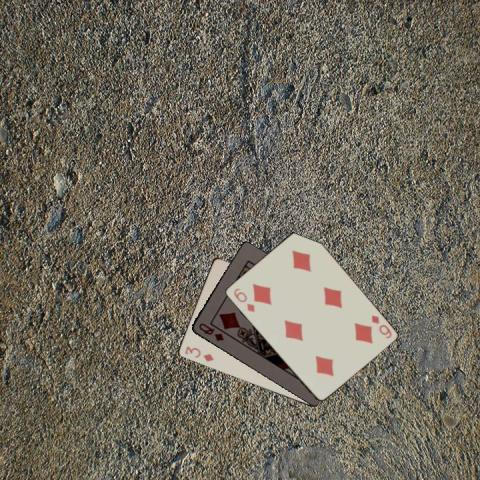3d: (181, 344, 215, 364)
6d: (230, 286, 256, 314), (368, 312, 393, 340)
Qd: (196, 320, 226, 343)
